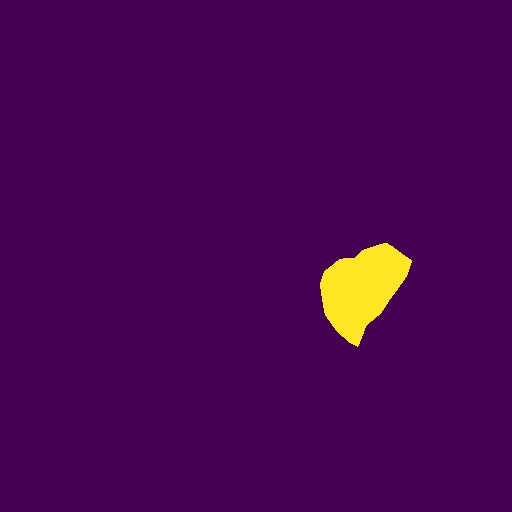Menigiomia_tumour: (320, 243, 412, 347)
